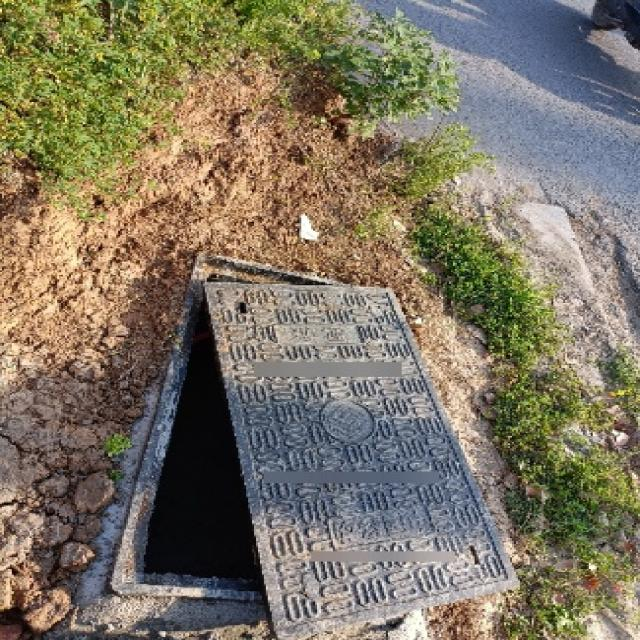Lose: (90, 210, 521, 640)
